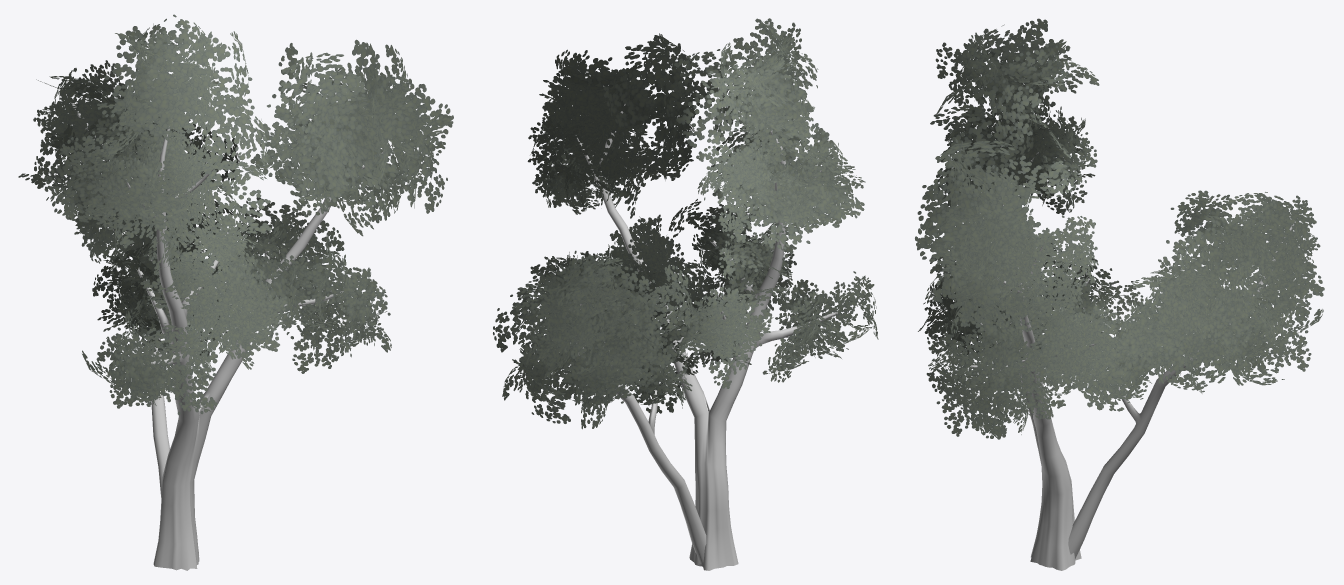
File: SM_Tree_B_02.fbx
3 views of the same model, side by side, from view 1: azimuth 30°, elevation 25°; view 2: azimuth 150°, elevation 25°; view 3: azimuth 270°, elevation 25° (orthographic). The views are drawn at different scales.
Visible parts, largest first — view 1: SM_Tree_B_02_LOD0; view 2: SM_Tree_B_02_LOD0; view 3: SM_Tree_B_02_LOD0.
Boxes of the visible parts, <box> form: SM_Tree_B_02_LOD0: <box>18,14,453,570</box>; SM_Tree_B_02_LOD0: <box>493,18,878,570</box>; SM_Tree_B_02_LOD0: <box>915,18,1324,570</box>.
Size of what is drawn, in the model's own units: 10.68 by 15.07 by 10.92.
